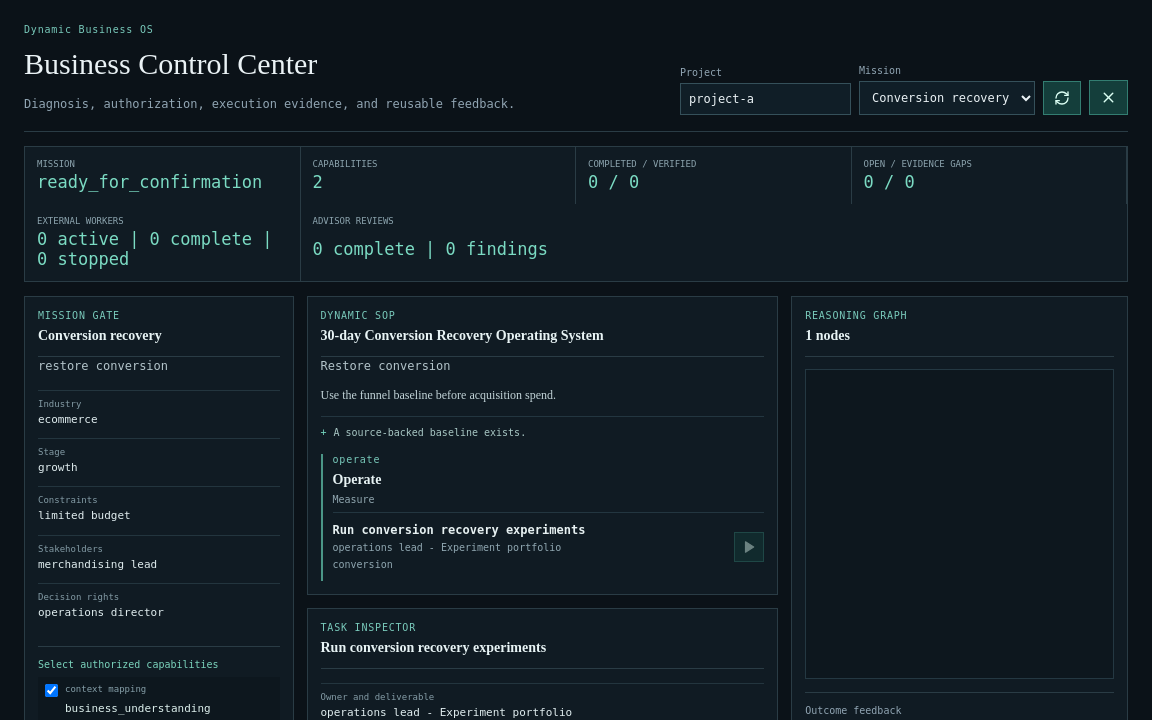
BusinessControlCenter › clears cached Mission choices when the project scope changes
Replace the text in the field named "DBOS project ID" with "project-b" at [766, 99], box [680,83,851,115]
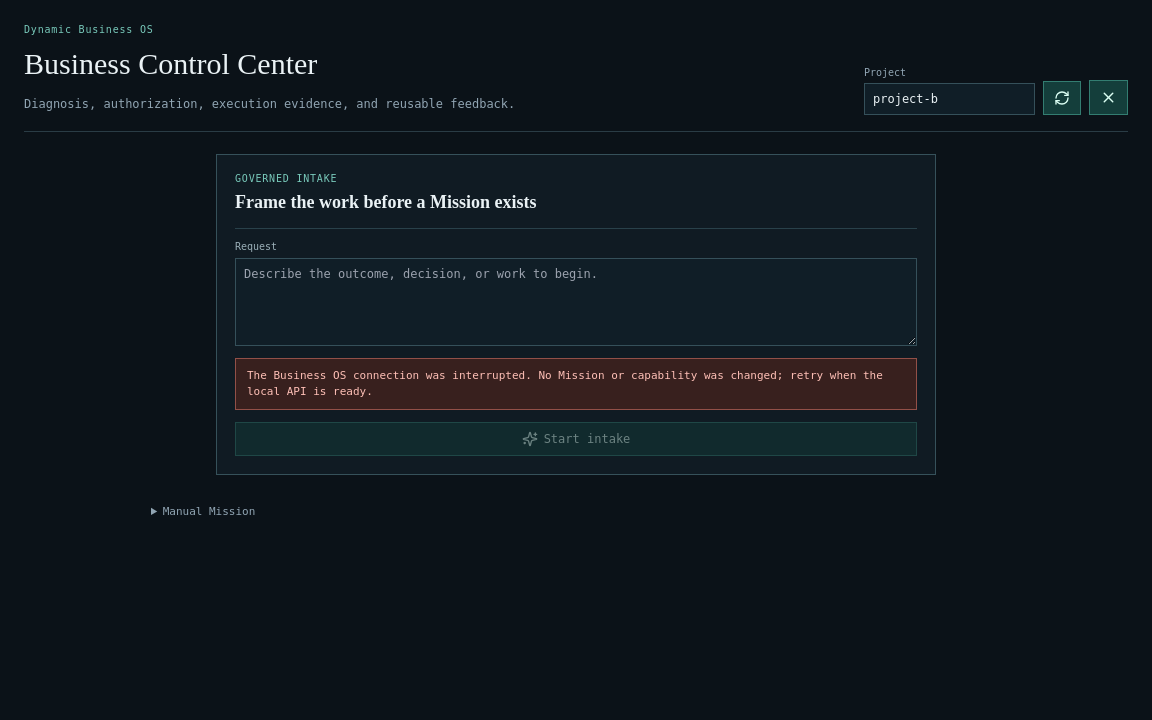
Result: the text "Conversion recovery" is gone
